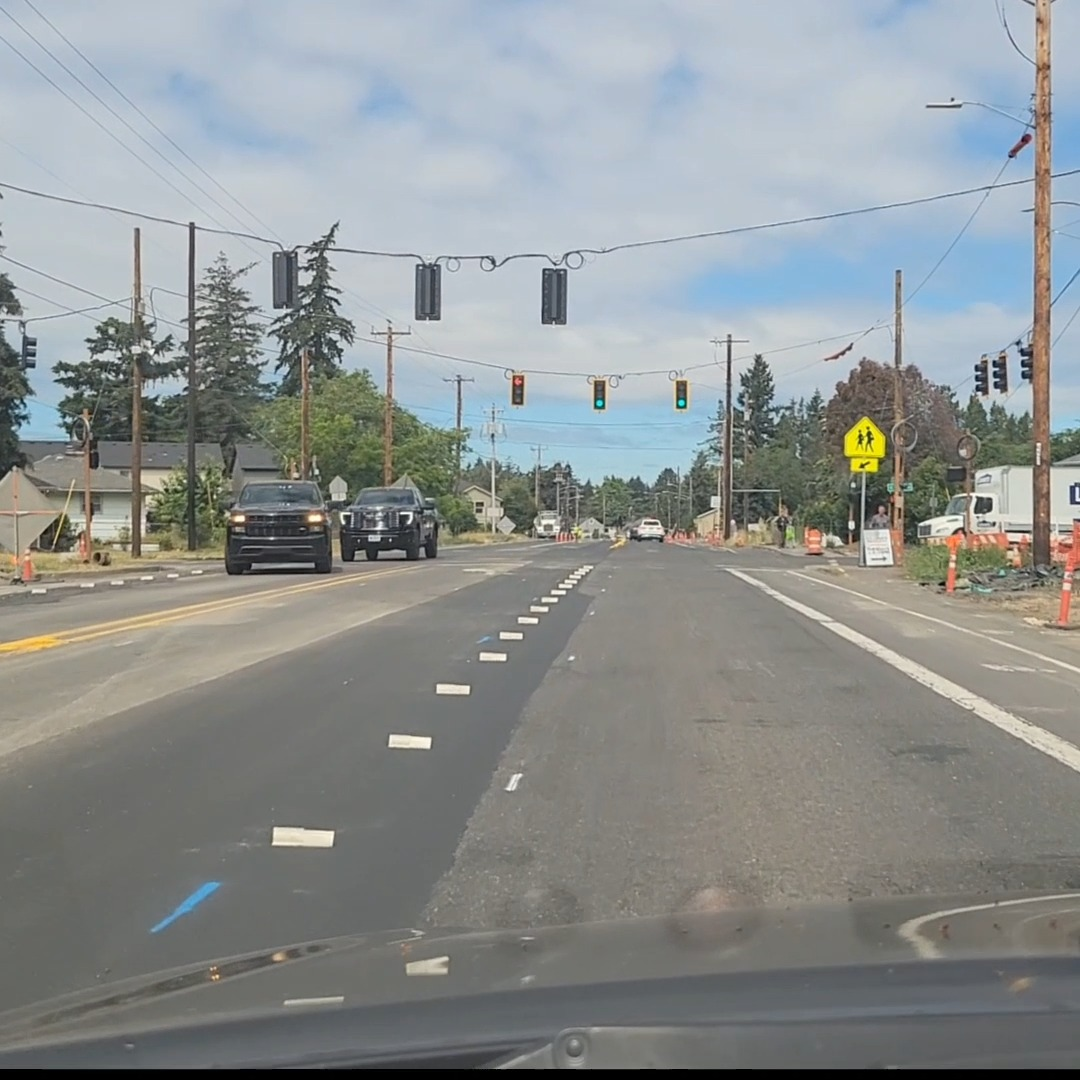car: (222, 481, 336, 575), (337, 486, 439, 561), (627, 517, 665, 541)
crosswalk-sign: (842, 415, 887, 467)
delineator: (944, 534, 959, 594), (20, 549, 33, 581), (74, 530, 88, 554)
